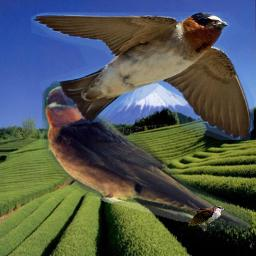Cuckoo: (188, 191, 225, 227)
Swallow: (42, 81, 252, 231), (31, 12, 254, 140)
